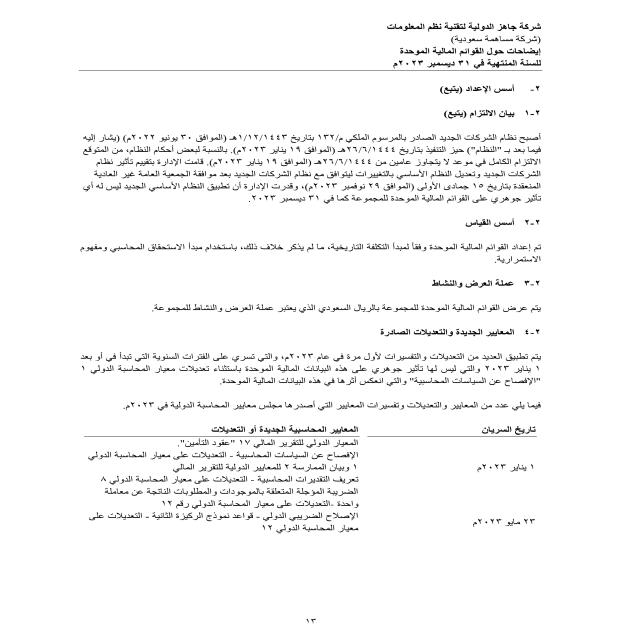notes: (376, 46, 550, 56)
text: (53, 85, 562, 595)
